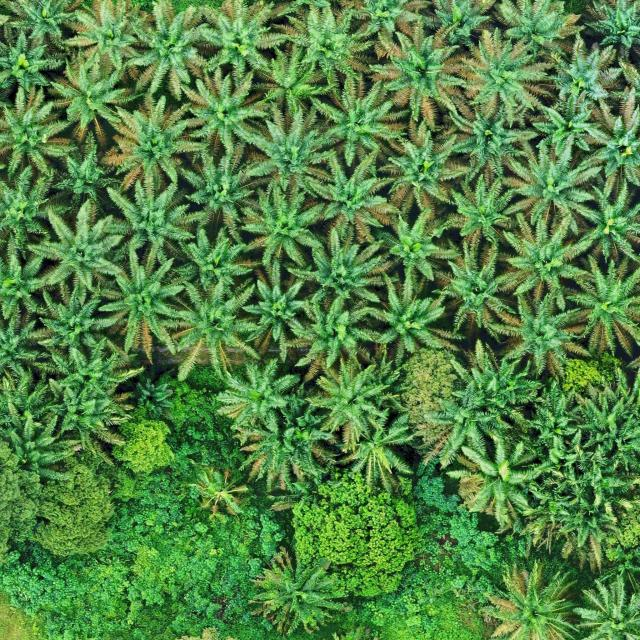Tree: (289, 468, 423, 598), (532, 436, 640, 572), (370, 16, 476, 132), (158, 271, 264, 382), (93, 249, 192, 366), (303, 351, 410, 452), (100, 93, 208, 193), (500, 140, 608, 240), (240, 101, 344, 204), (46, 337, 146, 444), (445, 435, 553, 534), (120, 0, 225, 100), (282, 293, 398, 383), (238, 387, 336, 493), (26, 199, 123, 306), (234, 176, 334, 278), (307, 72, 411, 169), (282, 227, 391, 319), (455, 26, 555, 126), (497, 216, 598, 312), (172, 66, 272, 162), (271, 0, 374, 93), (487, 286, 590, 378), (303, 148, 400, 245), (378, 118, 468, 222), (363, 279, 467, 366), (476, 556, 581, 640), (191, 0, 291, 88), (249, 549, 347, 638), (172, 152, 276, 235), (247, 36, 336, 130), (44, 58, 138, 146), (97, 181, 195, 265), (564, 251, 640, 359), (240, 256, 316, 362), (446, 100, 541, 184), (426, 376, 514, 466), (22, 278, 118, 359), (215, 356, 302, 445), (63, 0, 157, 82), (376, 203, 464, 289), (431, 248, 518, 334), (0, 410, 84, 499), (0, 88, 76, 180), (180, 215, 262, 298), (538, 30, 625, 106), (446, 175, 528, 254), (524, 89, 614, 160), (510, 379, 589, 458), (572, 177, 640, 263), (0, 25, 67, 98), (575, 575, 640, 640), (53, 142, 108, 209), (134, 378, 175, 420)
